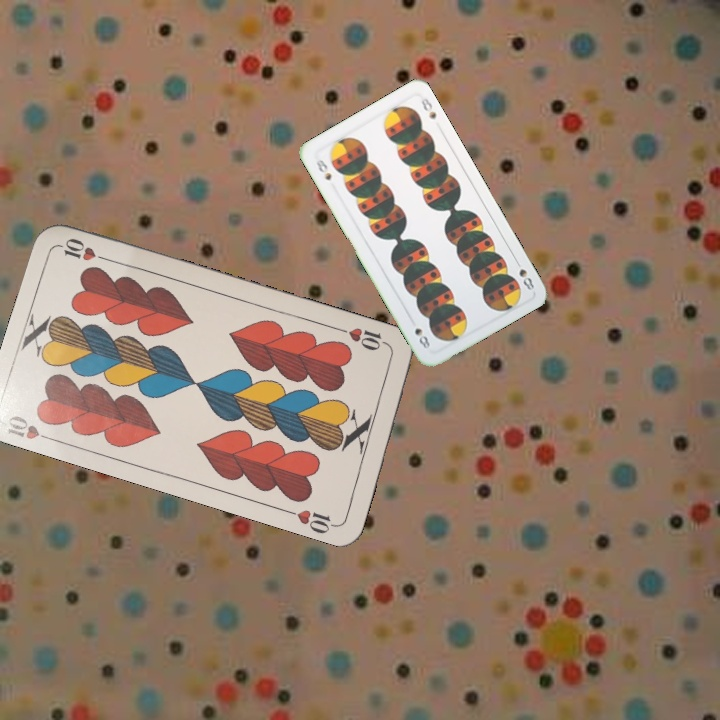H10: (3, 410, 60, 445), (335, 323, 393, 353)
S8: (510, 255, 537, 293), (311, 154, 334, 183)
